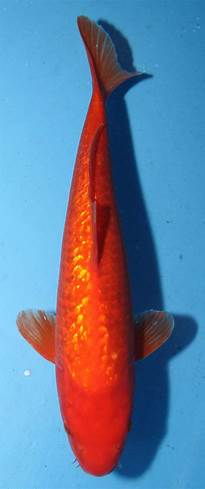red: (17, 17, 176, 477)
